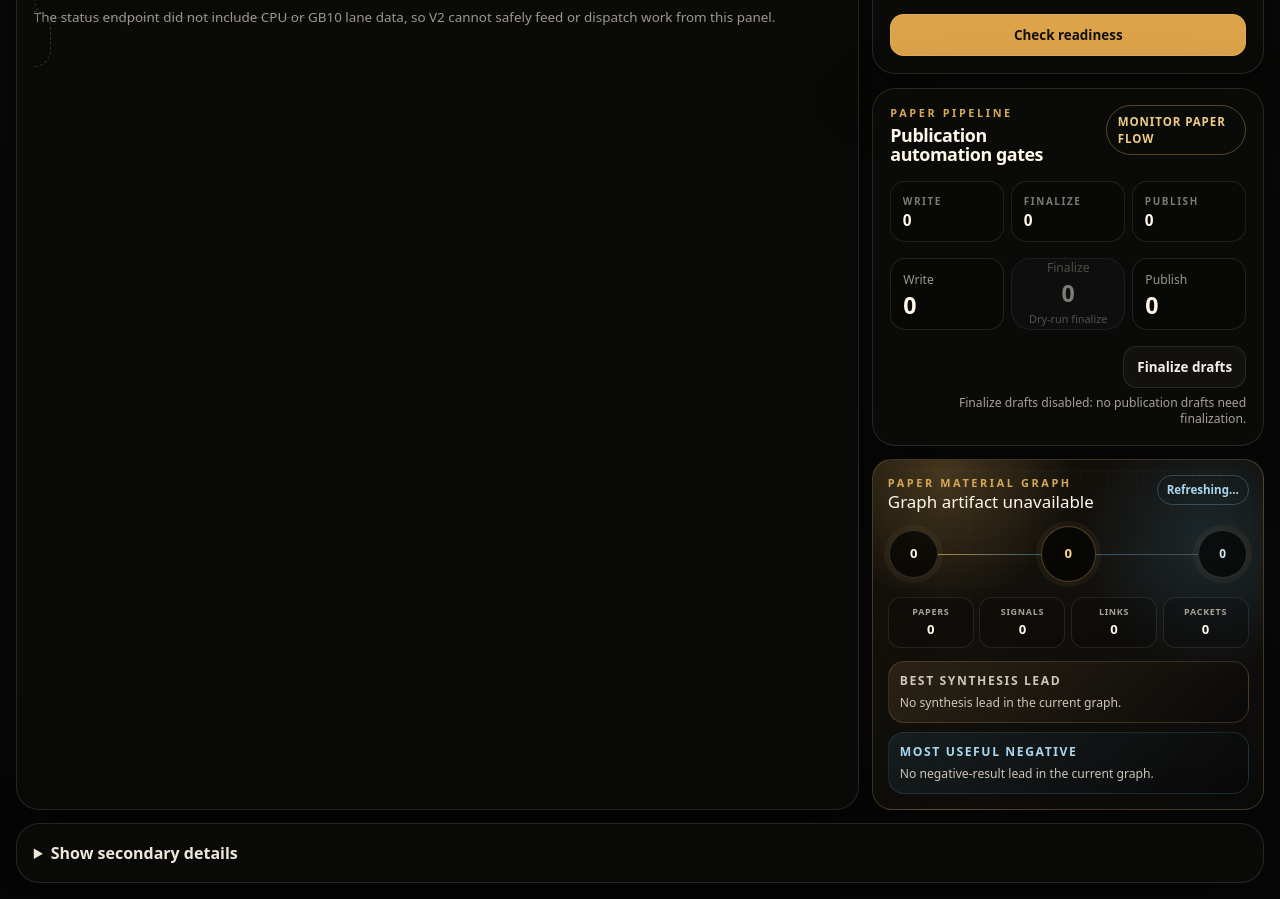
Test case: prefers active research signal reasons over recovered context
(page scrolled)
Expected: the text "Show secondary details" is shown, [16, 823, 1264, 883]
Expected: the field labelled "Research signal quality" is not shown
Click the heading "Show secondary details" at (144, 853), box [51, 842, 238, 864]
(page scrolled)
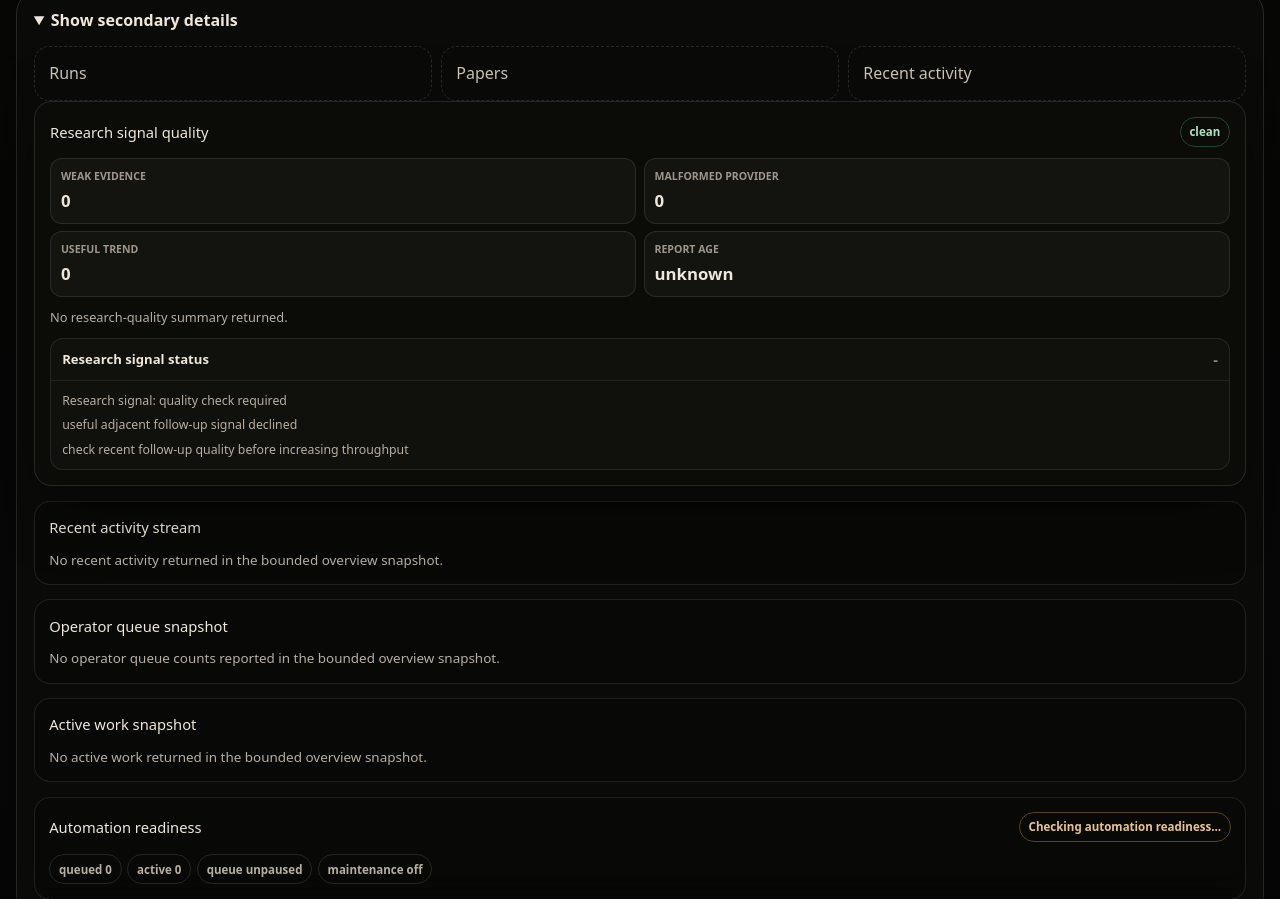
Expected: the element labelled "Research signal quality" is shown, [34, 101, 1246, 486]
Expected: the heading "Research signal status" is shown, [62, 352, 209, 368]
Expected: the text "Research signal: quality check required" is shown, [62, 392, 287, 409]
